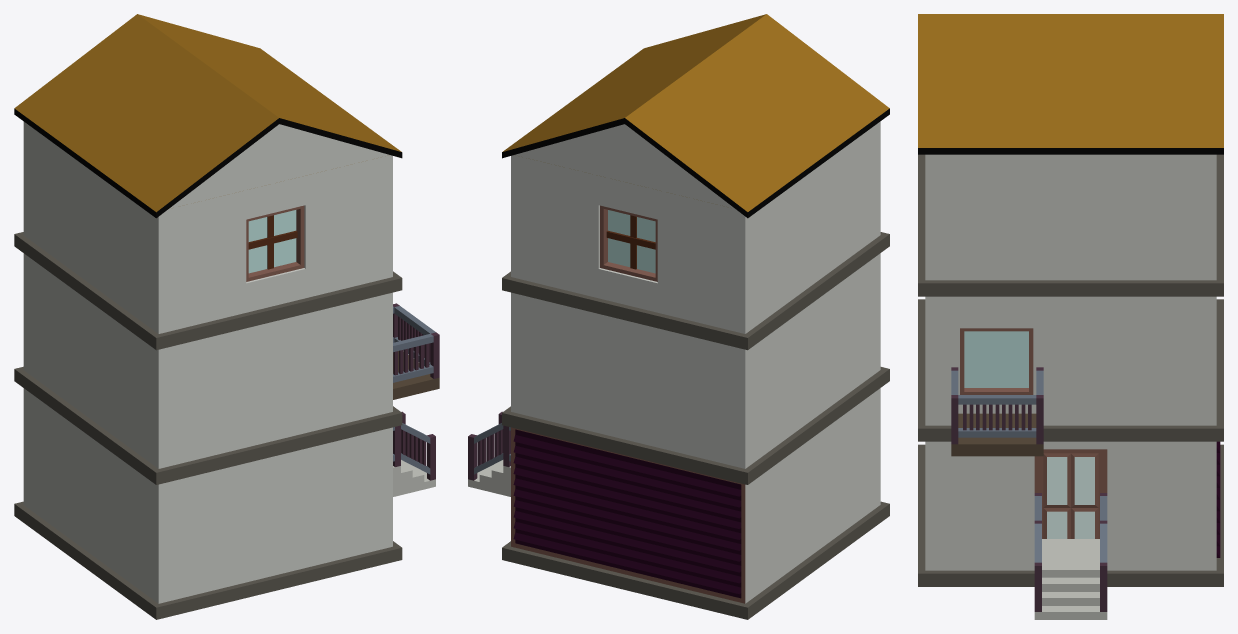
The model's file is building3.fbx.
3 views of the same model, side by side, from view 1: azimuth 30°, elevation 25°; view 2: azimuth 150°, elevation 25°; view 3: azimuth 270°, elevation 25° (orthographic). The views are drawn at different scales.
Parts seen in each view (by area): view 1: building_005; view 2: building_005; view 3: building_005.
Boxes of the visible parts, x1,y1,x2,y2 form: building_005: (14,14,439,619); building_005: (468,14,889,619); building_005: (918,14,1223,619).
Size of the model in its own units: 5.7 by 7.7 by 4.2.
